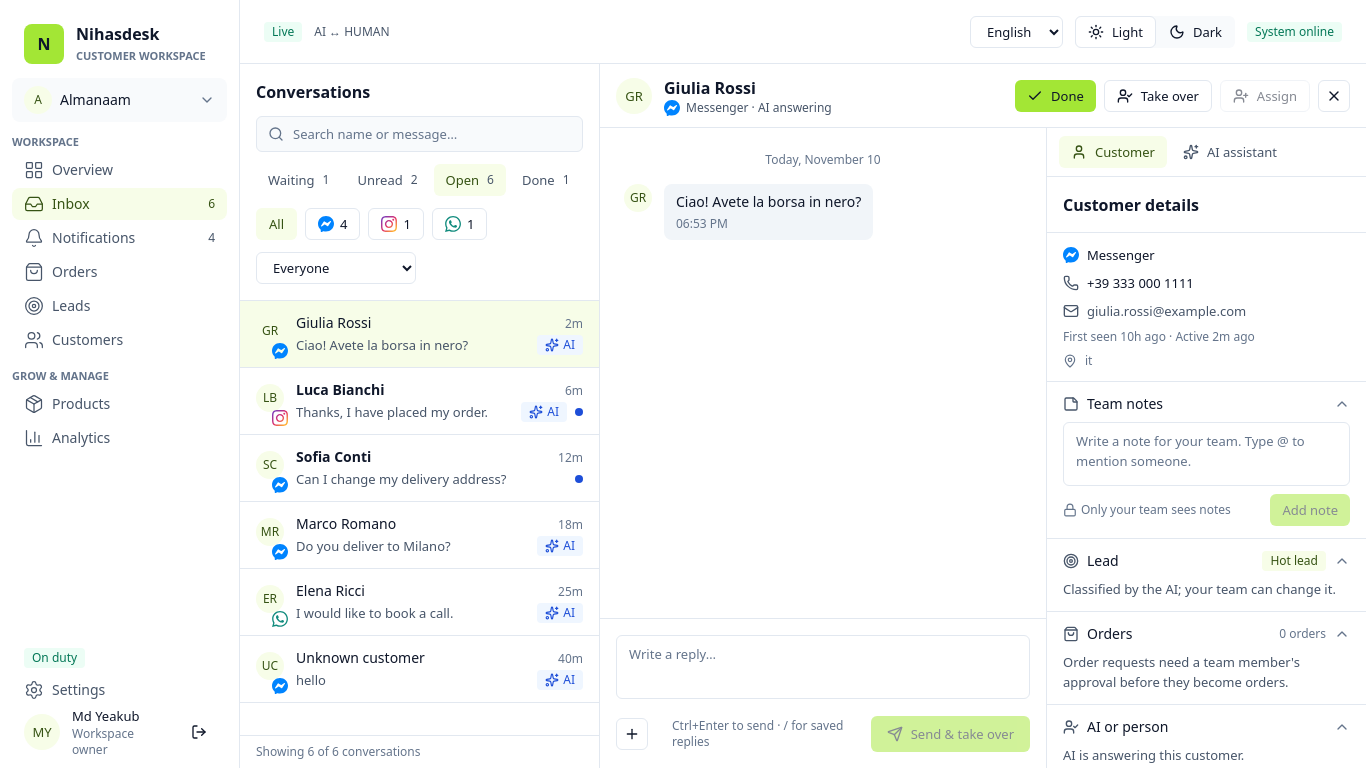
Test case: AI assistant › shows the stored summary of a long conversation as plain text, without asking the AI
Click the tab "AI assistant" at (1230, 152), box x1=1171 y1=136 x2=1289 y2=168
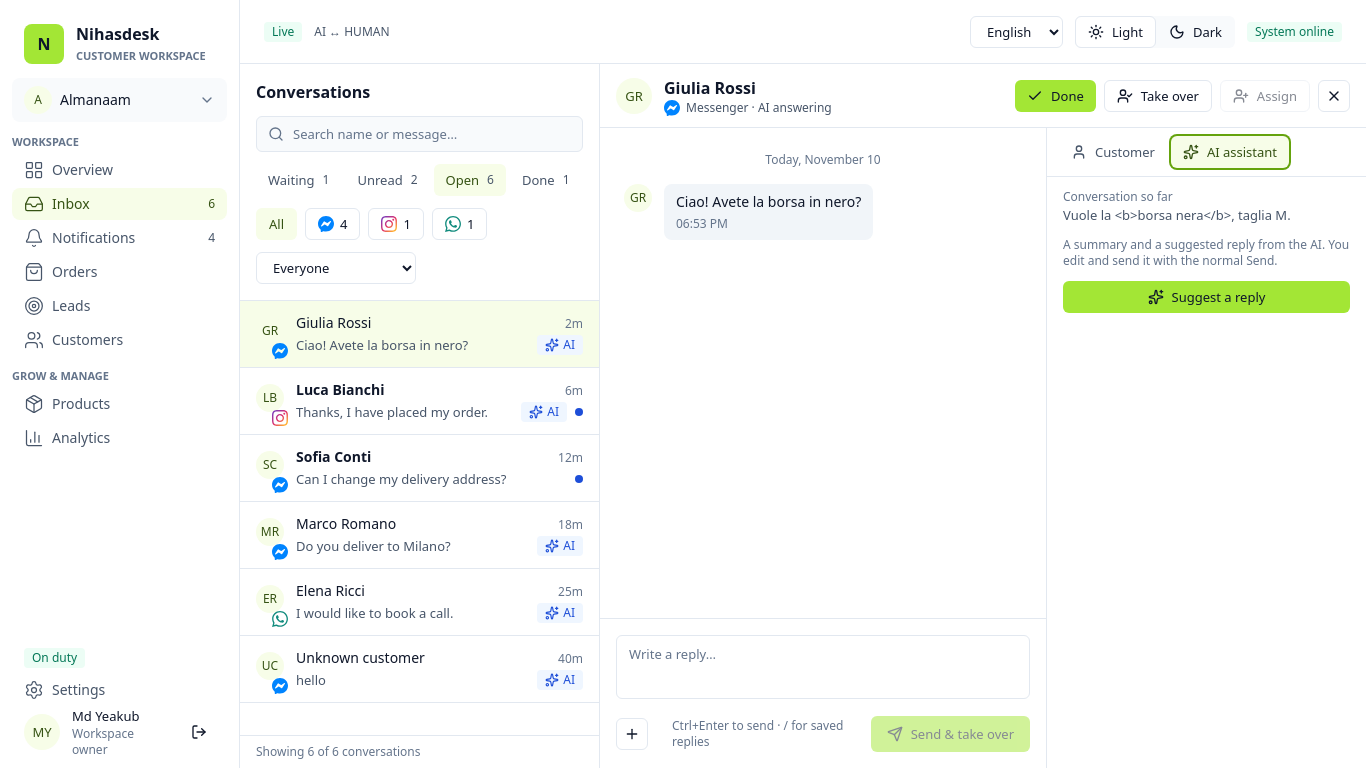
Now the element "Conversation so far" shows "Vuole la <b>borsa nera</b>, taglia M.", box x1=1063 y1=206 x2=1291 y2=224
